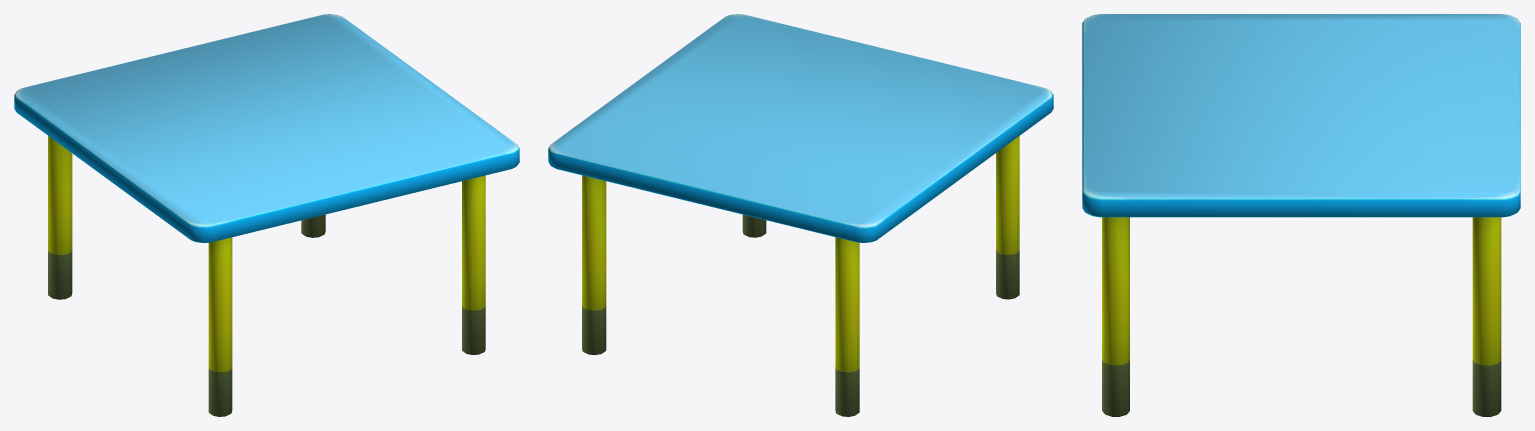
The model's file is Table.fbx.
3 views of the same model, side by side, from view 1: azimuth 30°, elevation 25°; view 2: azimuth 150°, elevation 25°; view 3: azimuth 270°, elevation 25° (orthographic). The views are drawn at different scales.
Visible parts, largest first — view 1: 090; view 2: 090; view 3: 090.
Boxes of the visible parts, x1,y1,x2,y2 form: 090: (14, 14, 519, 416); 090: (548, 14, 1053, 416); 090: (1082, 14, 1520, 416).
Bounding box in the file's own units: 57.53 × 33.97 × 57.53.
1 material, 1 textured.
